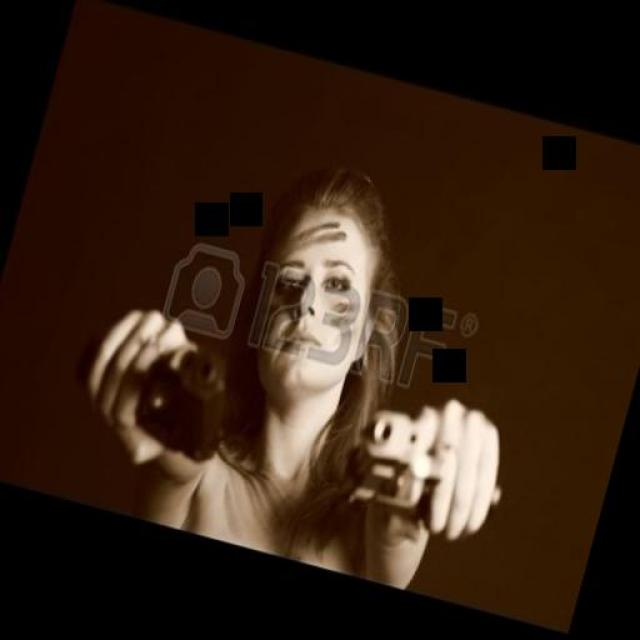gun: (322, 361, 522, 560), (55, 304, 249, 465)
